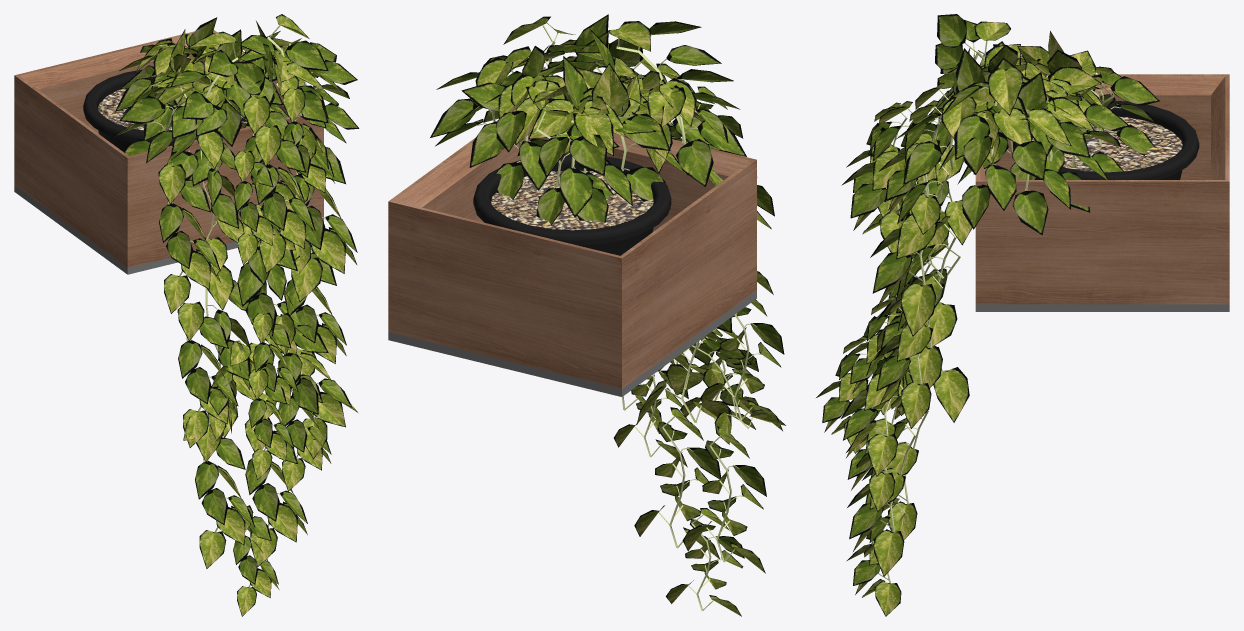
The model's file is shelf-plant.glb.
3 views of the same model, side by side, from view 1: azimuth 30°, elevation 25°; view 2: azimuth 150°, elevation 25°; view 3: azimuth 270°, elevation 25° (orthographic). The views are drawn at different scales.
Parts seen in each view (by area): view 1: Object_1136, Object_1158, Object_1146, Object_343, Object_367, Object_937, Object_973, Object_41, Object_731, Object_389, Object_405, Object_671 (+52 smaller); view 2: Object_1136, Object_1158, Object_1159, Object_1146, Object_961, Object_121, Object_125, Object_170, Object_135, Object_829, Object_965, Object_811 (+25 smaller); view 3: Object_1136, Object_1158, Object_1159, Object_1146, Object_347, Object_291, Object_929, Object_951, Object_193, Object_375, Object_955, Object_253 (+37 smaller).
Boxes of the visible parts, x1=… form: Object_1136: x1=14, y1=30, x2=323, y2=267; Object_1158: x1=83, y1=69, x2=245, y2=151; Object_1146: x1=14, y1=185, x2=323, y2=274; Object_343: x1=311, y1=228, x2=345, y2=273; Object_367: x1=291, y1=255, x2=322, y2=302; Object_937: x1=285, y1=40, x2=328, y2=70; Object_973: x1=119, y1=96, x2=165, y2=123; Object_41: x1=233, y1=62, x2=264, y2=95; Object_731: x1=254, y1=125, x2=281, y2=166; Object_389: x1=158, y1=164, x2=185, y2=204; Object_405: x1=164, y1=274, x2=190, y2=313; Object_671: x1=199, y1=530, x2=226, y2=568; Object_1136: x1=388, y1=109, x2=756, y2=388; Object_1158: x1=473, y1=153, x2=671, y2=255; Object_1159: x1=491, y1=170, x2=653, y2=230; Object_1146: x1=388, y1=290, x2=756, y2=396; Object_961: x1=676, y1=139, x2=713, y2=186; Object_121: x1=559, y1=167, x2=593, y2=217; Object_125: x1=573, y1=106, x2=613, y2=156; Object_170: x1=528, y1=98, x2=574, y2=139; Object_135: x1=591, y1=63, x2=630, y2=116; Object_829: x1=569, y1=134, x2=607, y2=175; Object_965: x1=647, y1=84, x2=685, y2=126; Object_811: x1=622, y1=113, x2=670, y2=150; Object_1136: x1=975, y1=74, x2=1229, y2=304; Object_1158: x1=1013, y1=100, x2=1199, y2=179; Object_1159: x1=1032, y1=116, x2=1182, y2=171; Object_1146: x1=975, y1=304, x2=1229, y2=311; Object_347: x1=901, y1=283, x2=935, y2=336; Object_291: x1=933, y1=367, x2=969, y2=422; Object_929: x1=988, y1=67, x2=1023, y2=115; Object_951: x1=1012, y1=190, x2=1048, y2=234; Object_193: x1=903, y1=141, x2=941, y2=184; Object_375: x1=896, y1=214, x2=937, y2=259; Object_955: x1=1012, y1=141, x2=1047, y2=180; Object_253: x1=908, y1=347, x2=942, y2=388.
Size of the model in its own units: 0.3685 by 0.7715 by 0.4895.
7 materials, 4 textured.
